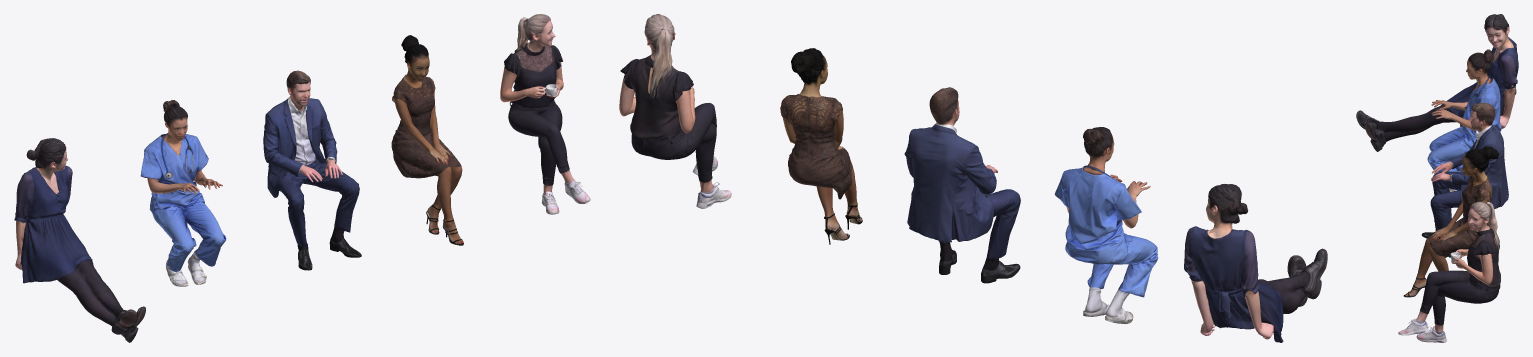
Rendered from people5s.glb.
3 renders of one model, left to right at view 1: azimuth 30°, elevation 25°; view 2: azimuth 150°, elevation 25°; view 3: azimuth 270°, elevation 25°, orthographic. The views are drawn at different scales.
Parts seen in each view (by area): view 1: Sitting people x 5 11-001, Sitting people x 5 11-004_Sitting people x 5 11-004_0, Sitting people x 5 11-005_Sitting people x 5 11-005_0, Sitting people x 5 11-002, Sitting people x 5 11-003; view 2: Sitting people x 5 11-004_Sitting people x 5 11-004_0, Sitting people x 5 11-001, Sitting people x 5 11-005_Sitting people x 5 11-005_0, Sitting people x 5 11-002, Sitting people x 5 11-003; view 3: Sitting people x 5 11-002, Sitting people x 5 11-001, Sitting people x 5 11-004_Sitting people x 5 11-004_0, Sitting people x 5 11-003, Sitting people x 5 11-005_Sitting people x 5 11-005_0.
Boxes of the visible parts, <box> form: Sitting people x 5 11-001: <box>14,138,145,342</box>; Sitting people x 5 11-004_Sitting people x 5 11-004_0: <box>263,70,361,270</box>; Sitting people x 5 11-005_Sitting people x 5 11-005_0: <box>140,100,226,286</box>; Sitting people x 5 11-002: <box>500,14,590,214</box>; Sitting people x 5 11-003: <box>391,35,463,245</box>; Sitting people x 5 11-004_Sitting people x 5 11-004_0: <box>904,87,1020,283</box>; Sitting people x 5 11-001: <box>1184,184,1327,342</box>; Sitting people x 5 11-005_Sitting people x 5 11-005_0: <box>1054,127,1158,323</box>; Sitting people x 5 11-002: <box>619,14,731,208</box>; Sitting people x 5 11-003: <box>780,48,862,244</box>; Sitting people x 5 11-002: <box>1398,201,1500,342</box>; Sitting people x 5 11-001: <box>1356,14,1518,151</box>; Sitting people x 5 11-004_Sitting people x 5 11-004_0: <box>1421,103,1508,257</box>; Sitting people x 5 11-003: <box>1403,146,1498,297</box>; Sitting people x 5 11-005_Sitting people x 5 11-005_0: <box>1427,49,1501,191</box>.
Bounding box in the file's own units: 4.39 × 1.34 × 1.33.
Materials: 5 (5 with a texture image).
